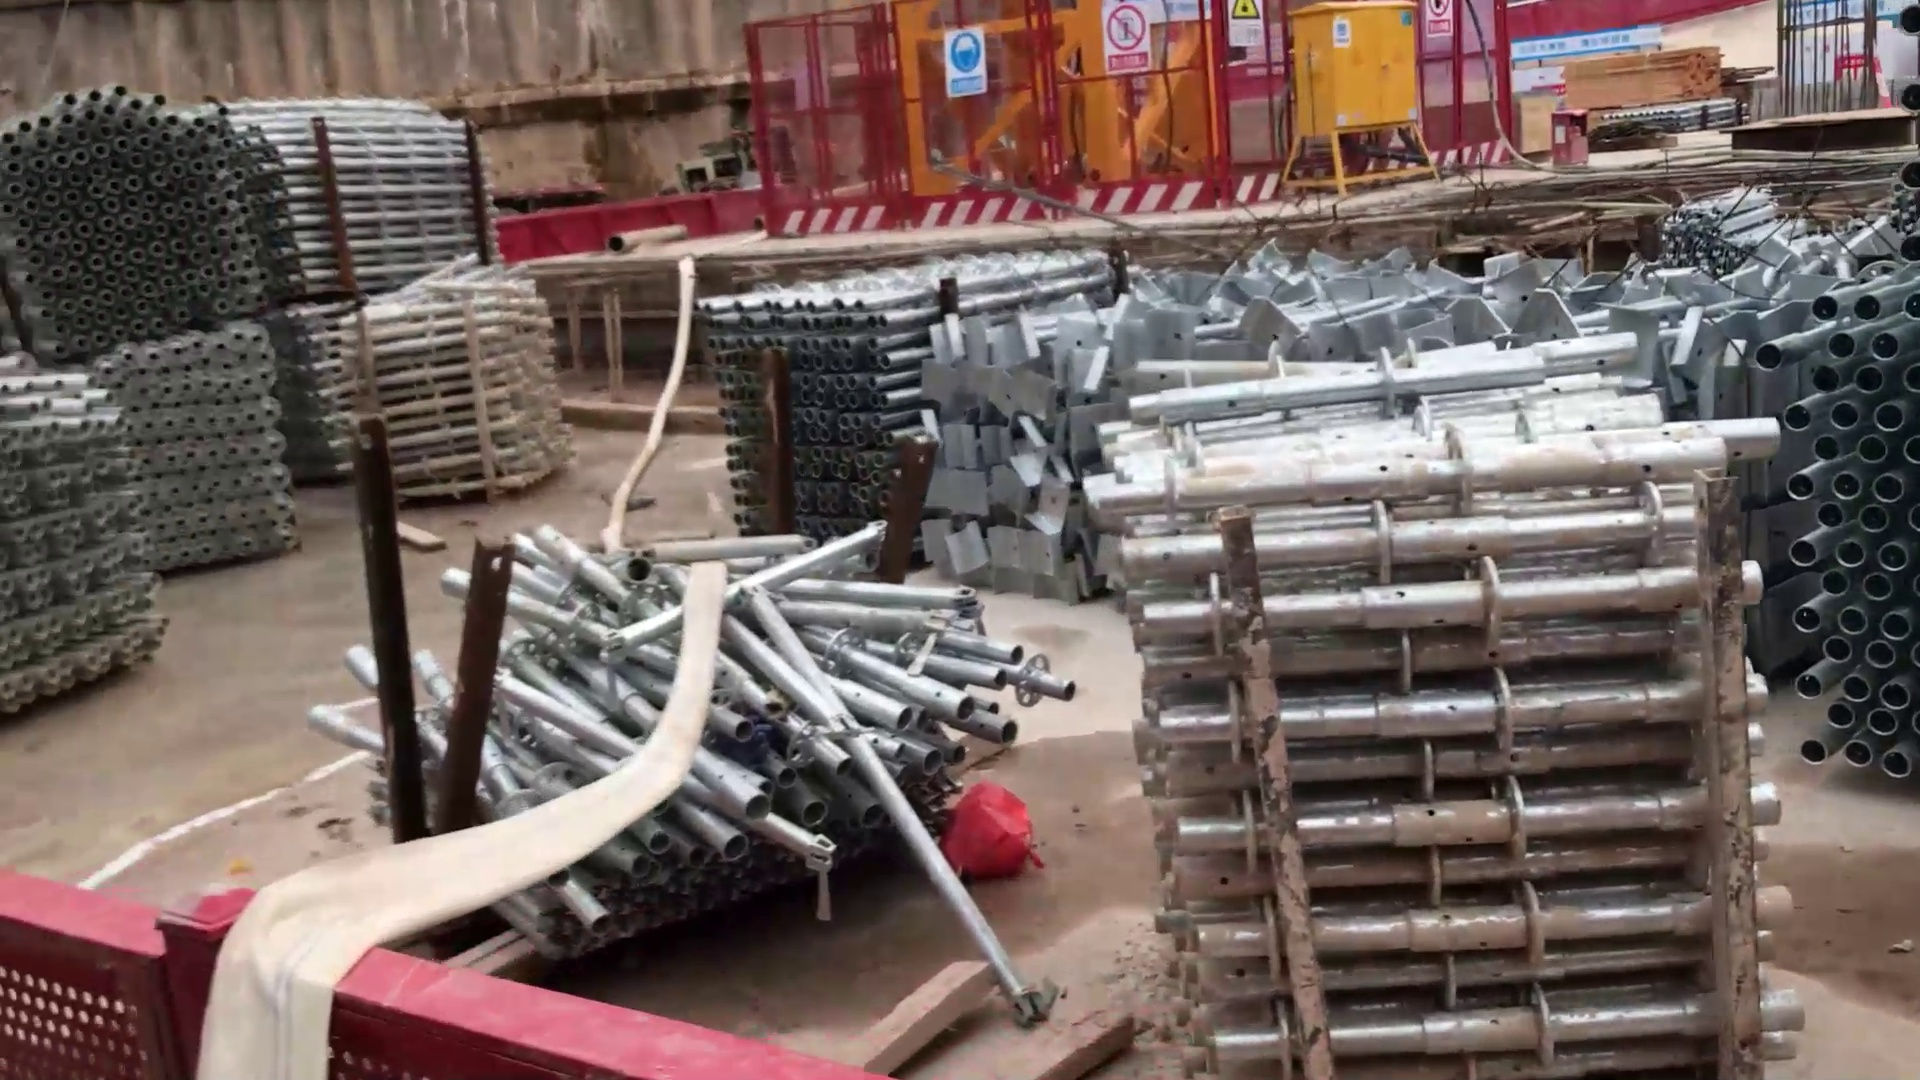ebox: (1273, 1, 1448, 199)
fence: (1, 876, 265, 1072)
scaffold: (1093, 423, 1836, 1080), (392, 539, 1069, 942), (15, 42, 299, 720), (1760, 212, 1920, 783), (709, 268, 1007, 550), (328, 272, 580, 504)
slogan: (1507, 16, 1667, 55), (938, 22, 1000, 107), (1100, 1, 1156, 78), (1230, 1, 1269, 57), (1420, 1, 1460, 44)
wood: (1563, 42, 1726, 111)
